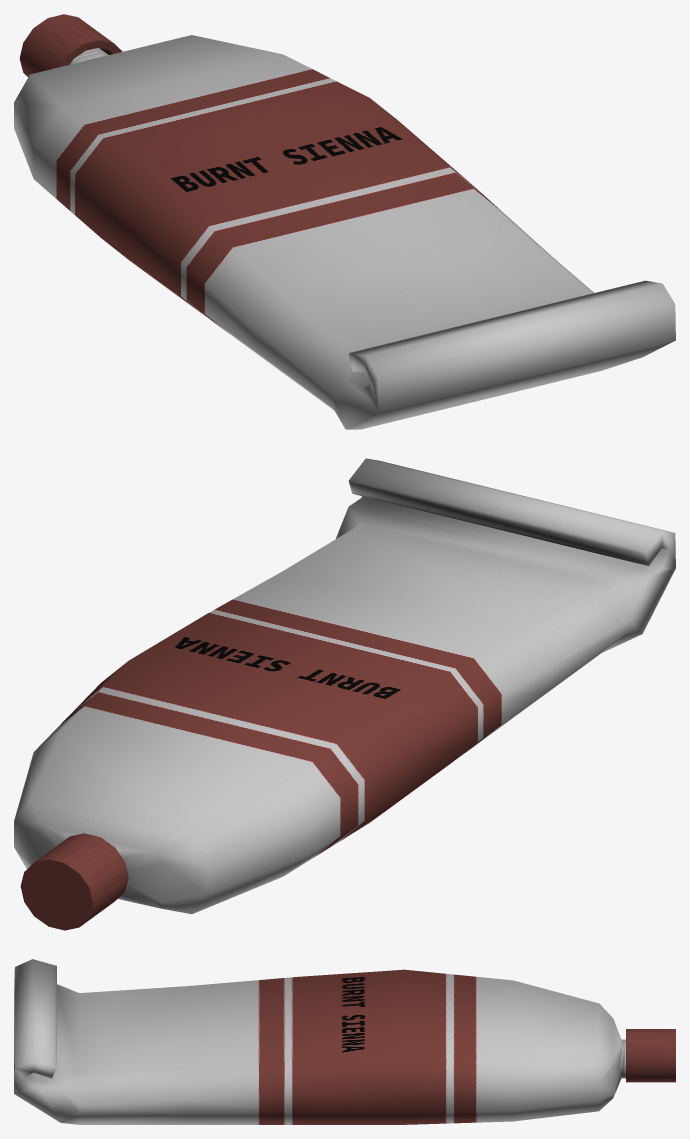
The model's file is paint_02.fbx.
3 renders of one model, top to bottom at view 1: azimuth 30°, elevation 25°; view 2: azimuth 150°, elevation 25°; view 3: azimuth 270°, elevation 25°, orthographic. The views are drawn at different scales.
Parts seen in each view (by area): view 1: paint_02, paint_02.lid; view 2: paint_02, paint_02.lid; view 3: paint_02, paint_02.lid.
Part boxes in pixels (x1=…): paint_02: x1=14, y1=35, x2=675, y2=429; paint_02.lid: x1=19, y1=14, x2=122, y2=76; paint_02: x1=14, y1=458, x2=675, y2=914; paint_02.lid: x1=20, y1=833, x2=128, y2=930; paint_02: x1=14, y1=959, x2=625, y2=1124; paint_02.lid: x1=626, y1=1029, x2=675, y2=1082.
Bounding box in the file's own units: 11.6 × 3.91 × 31.88.
